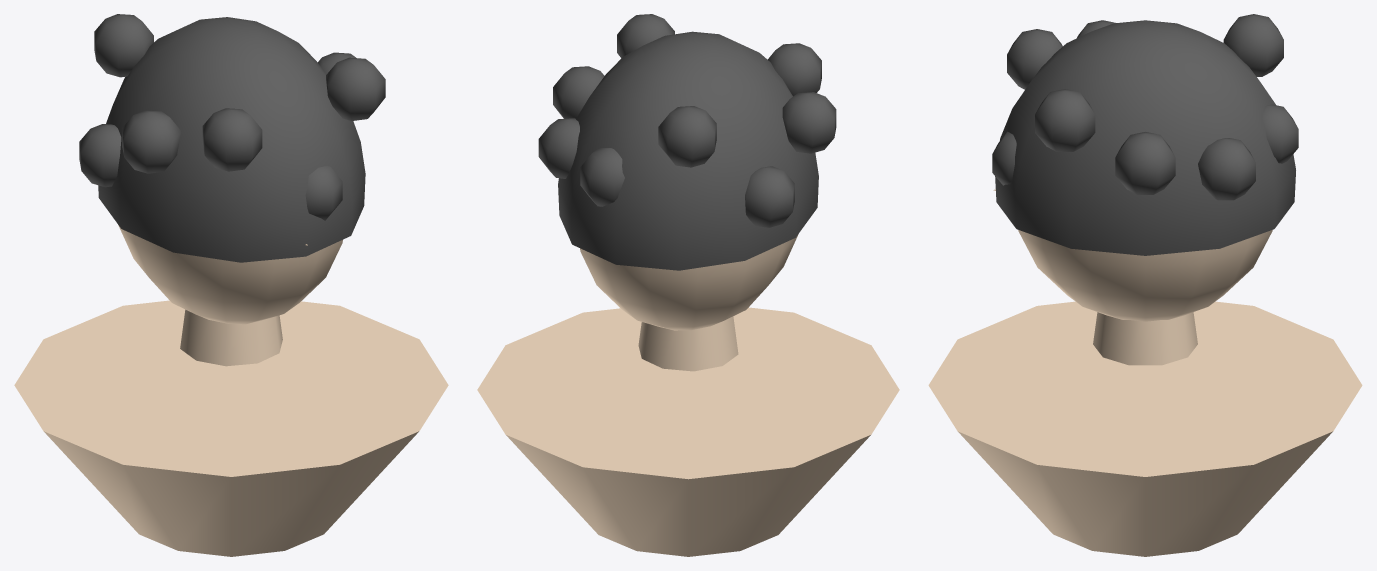
The model's file is raw_002.glb.
The picture shows the model from 3 angles, left to right: view 1: azimuth 30°, elevation 25°; view 2: azimuth 150°, elevation 25°; view 3: azimuth 270°, elevation 25°; orthographic projection. The views are drawn at different scales.
Bounding box in the file's own units: 1.74 × 2.13 × 1.74.
